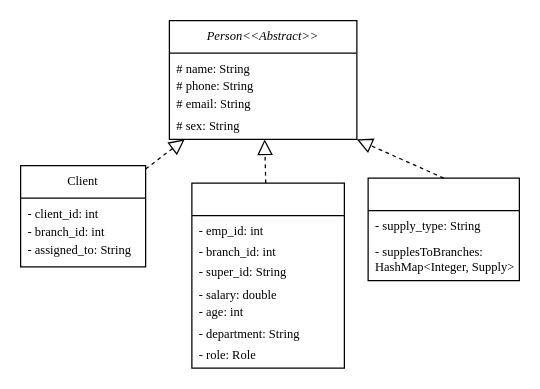
Some shapes in this 540 by 389 pixel diagram are drawn without their labels. Each missing label, with the box of its shape:
Employee: (191, 182, 344, 368)
Supplier: (367, 177, 519, 281)
